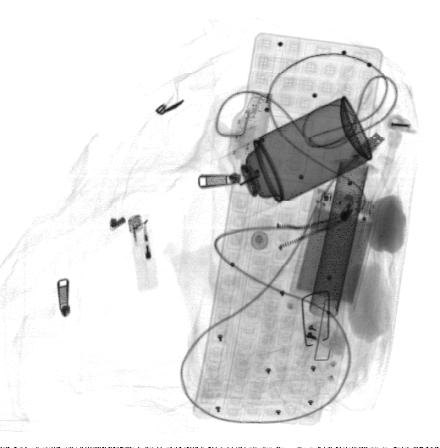Lighter: (126, 213, 159, 293)
Powerbank: (288, 186, 380, 314)
Sprayer: (214, 94, 374, 223)
